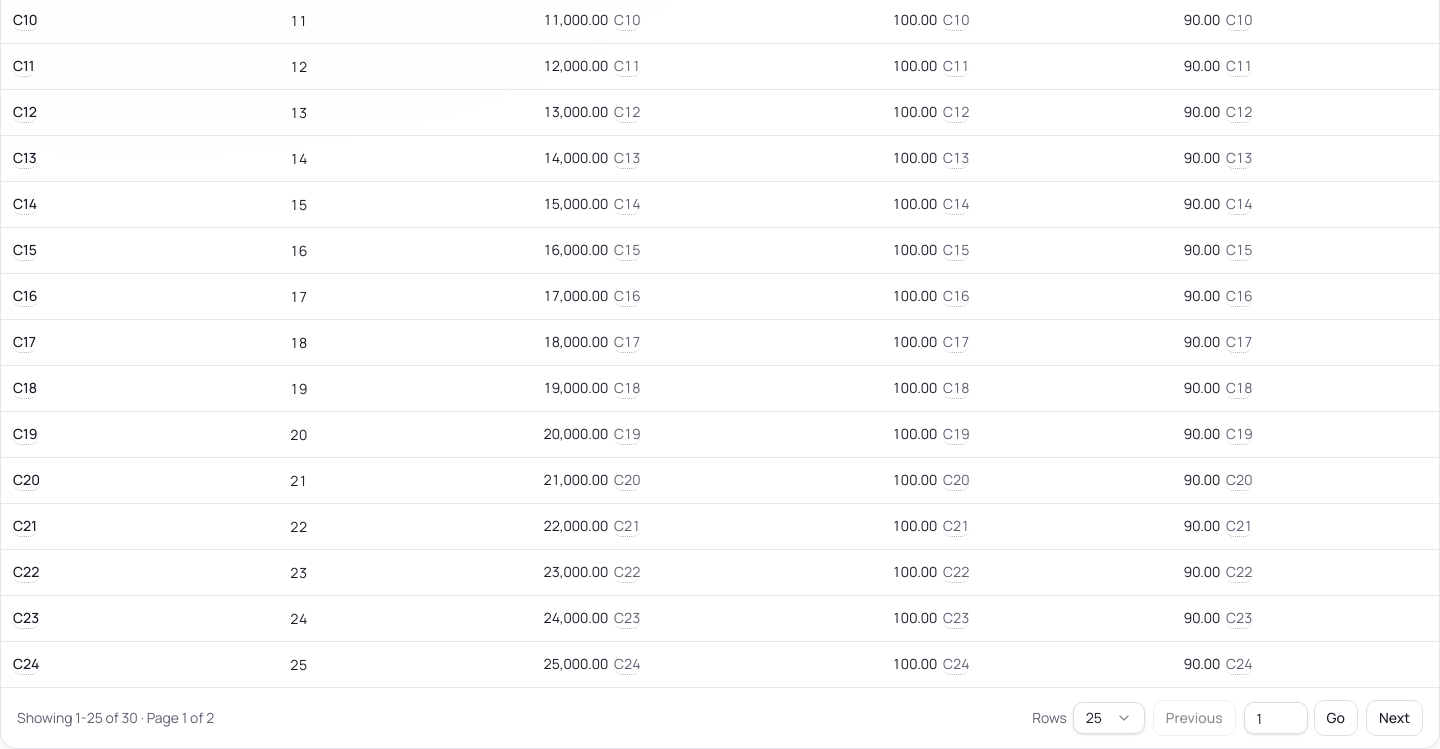
Test: TablesPage › changes rows per page from the select
(page scrolled)
Click the dropdown named "Rows per page" at x=1109, y=718, box [1073,702,1145,734]
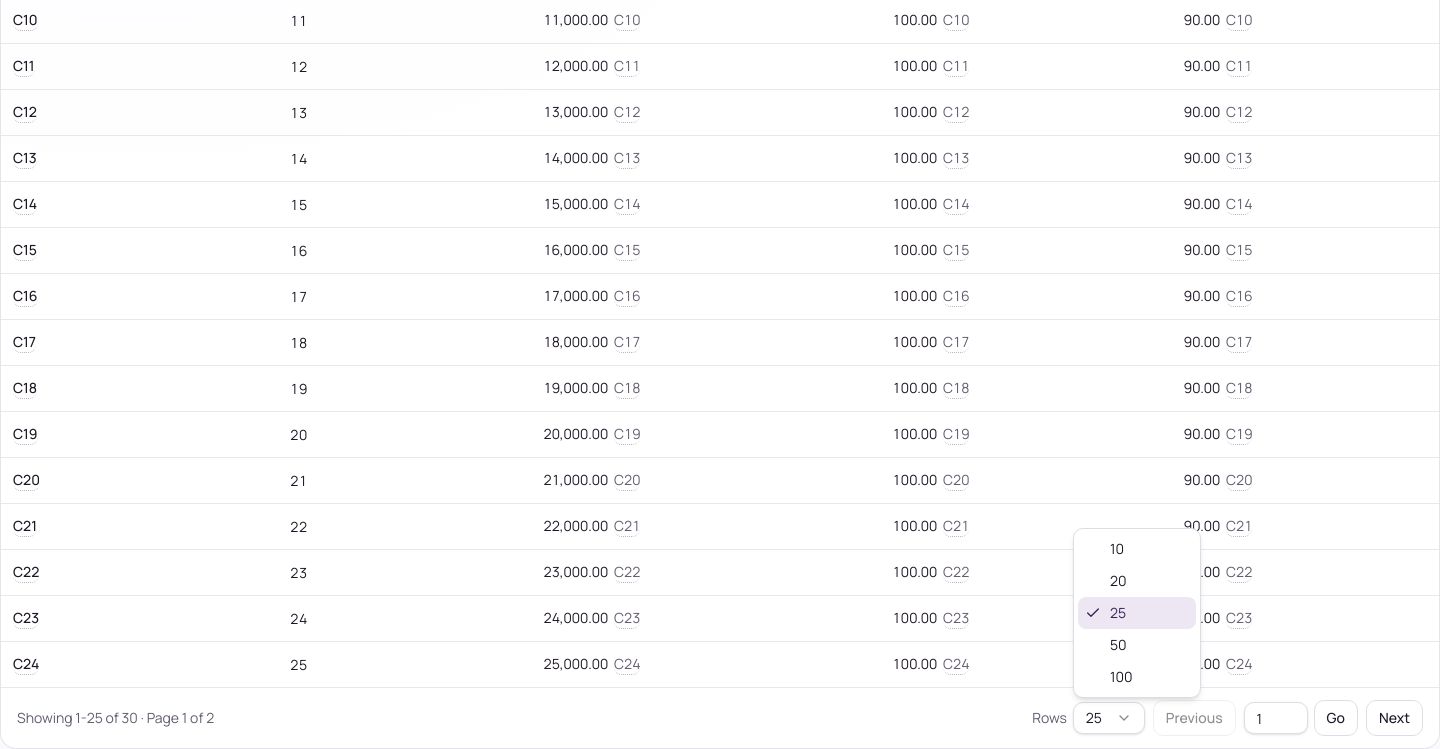
Click the option "10" at x=1117, y=548, box [1110,539,1124,558]
(page scrolled)
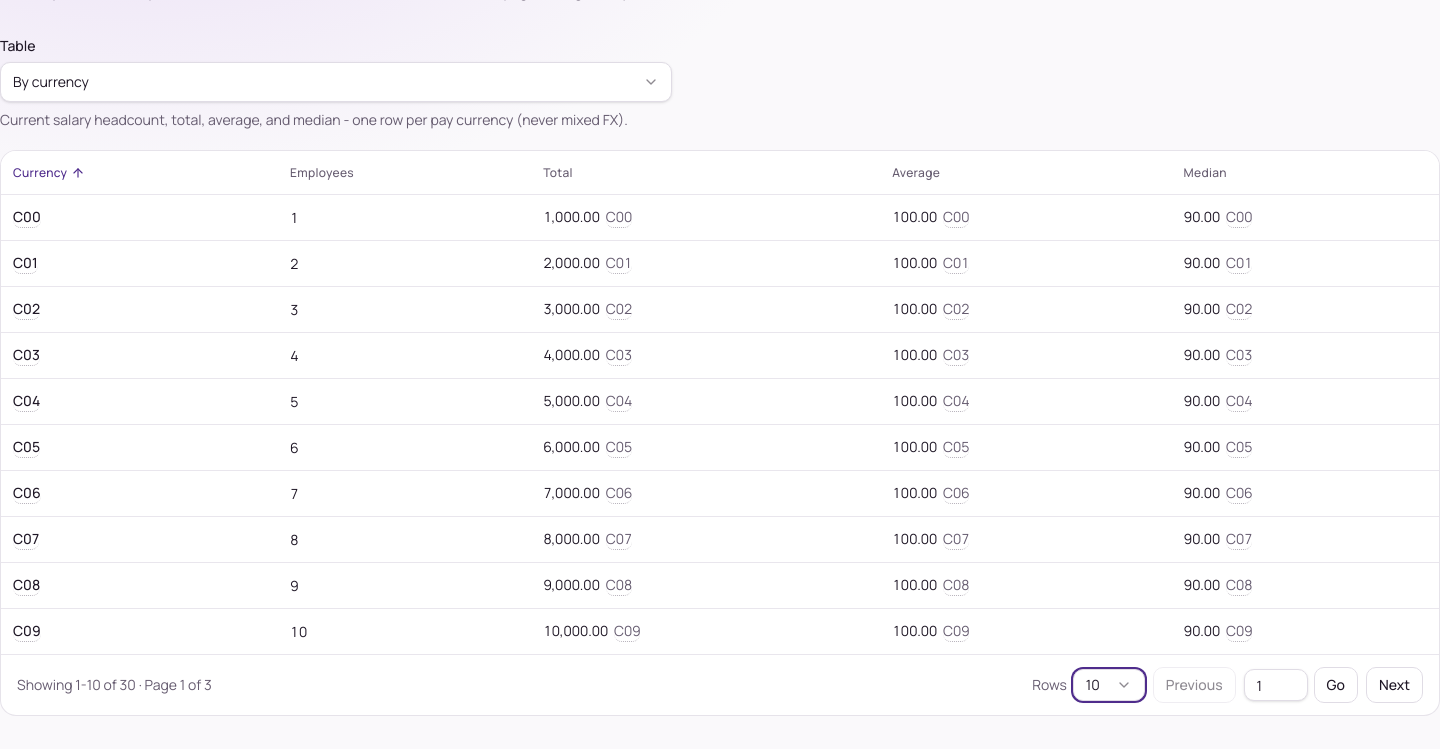
Now the dropdown named "Rows per page" reads "10", box [1073,669,1145,701]
